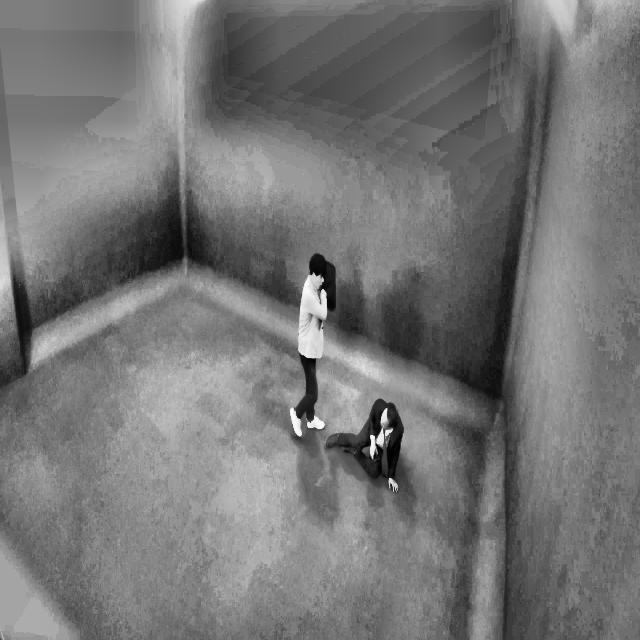assult: (290, 251, 418, 494), (325, 400, 411, 493)
